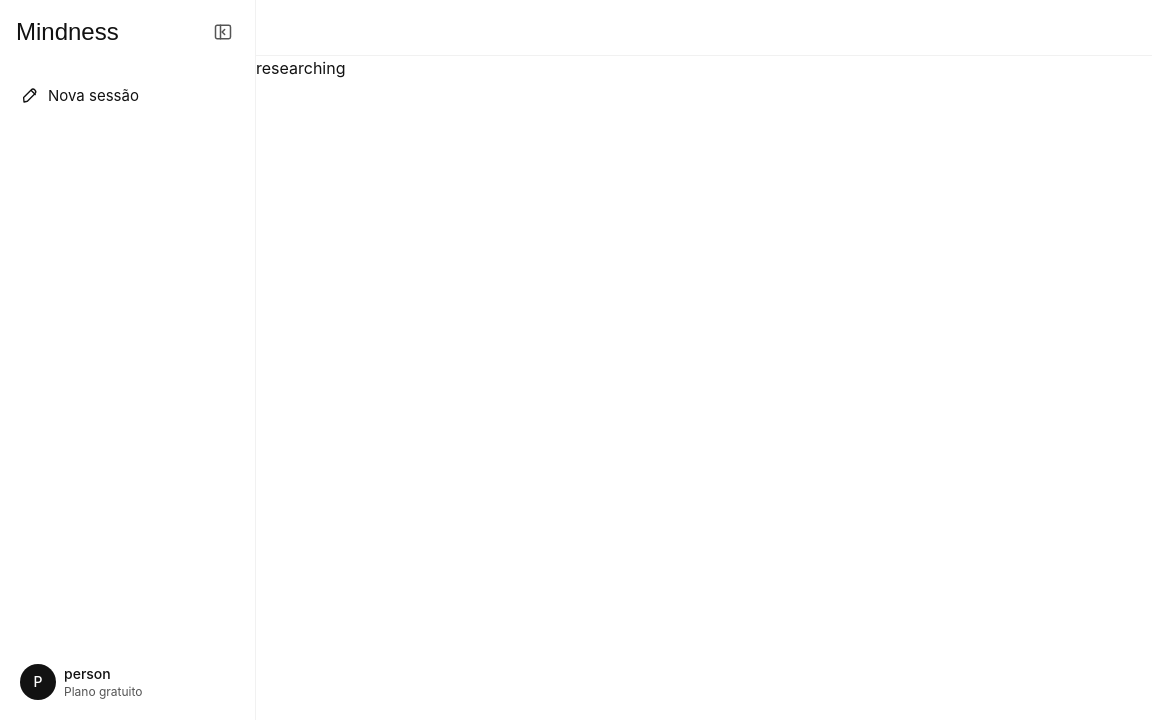
Test: AuthenticatedSessionShell › resets the practice session store after abandoning the active session
Expected: the text "researching" is shown, [256,58,346,78]
What coordinates should you click on to do the following:
click the link "Nova sessão"
I would click on:
 (80, 95)
Its box is [21,86,139,105].
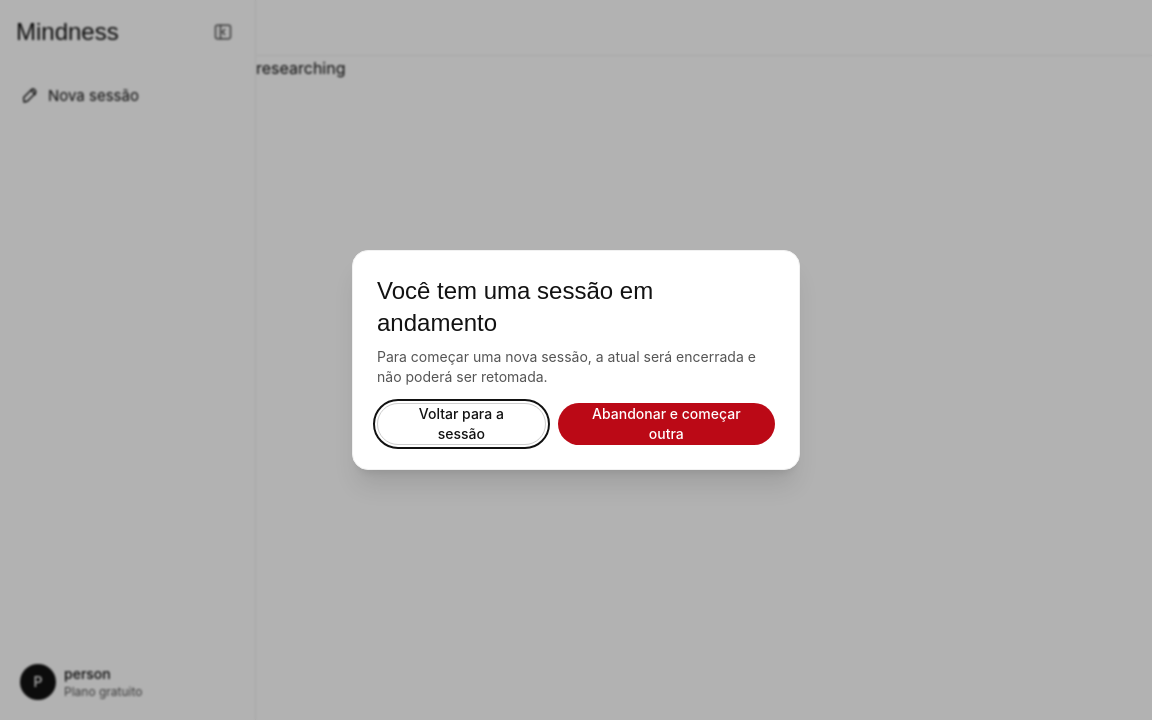
What coordinates should you click on to do the following:
click the button "Abandonar e começar outra"
I would click on:
 (666, 424)
Its box is [558,403,775,445].
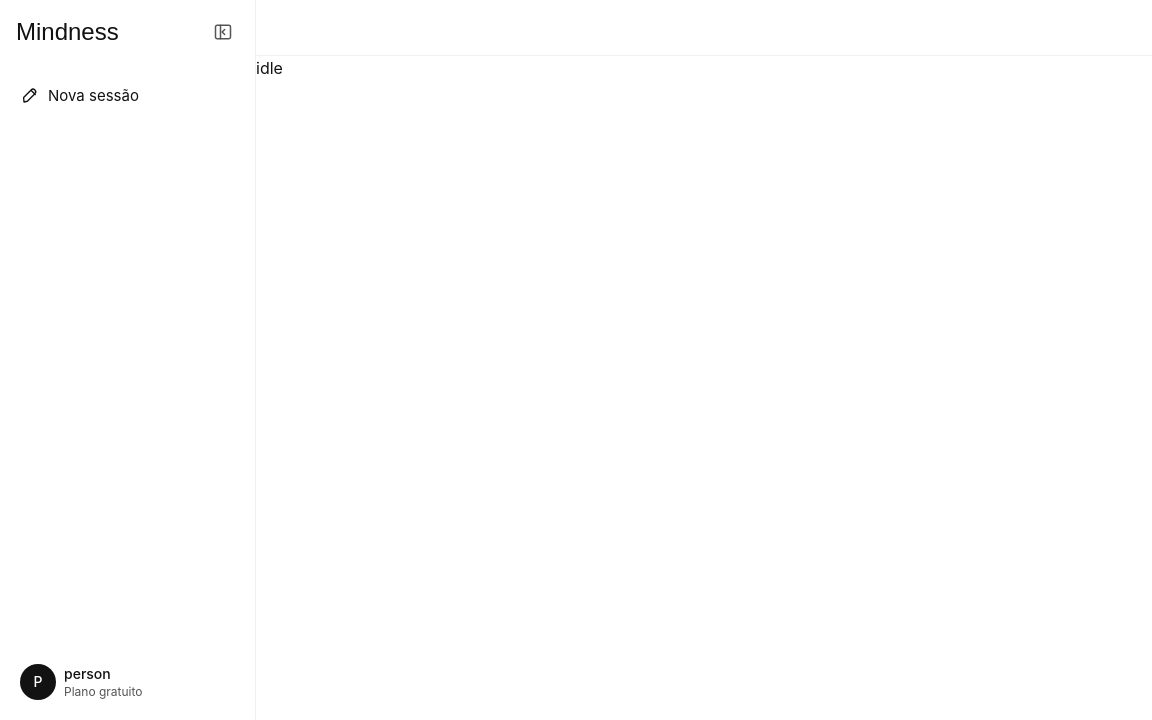
Expected: the text "idle" is shown, [256,58,283,78]
